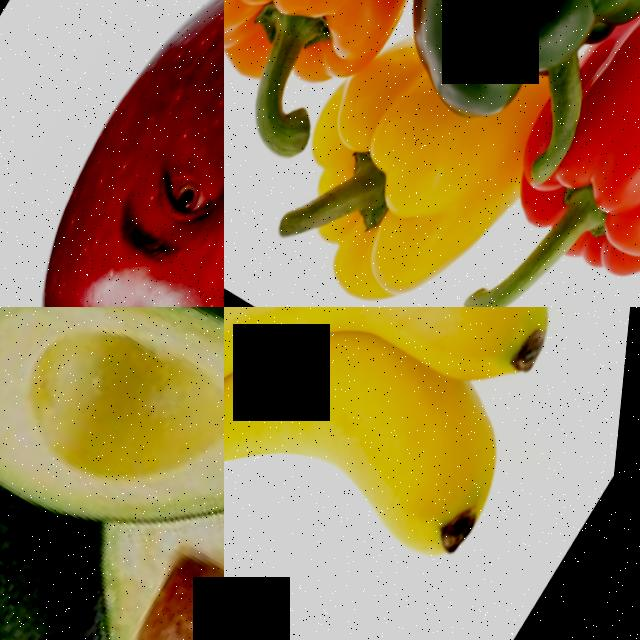apple: (0, 0, 224, 307)
avocado: (0, 307, 224, 640), (1, 374, 224, 640), (0, 404, 144, 640)
banana: (224, 307, 640, 640)
bell pepper: (238, 23, 559, 307), (457, 0, 640, 307), (224, 0, 480, 144), (373, 0, 640, 138)
